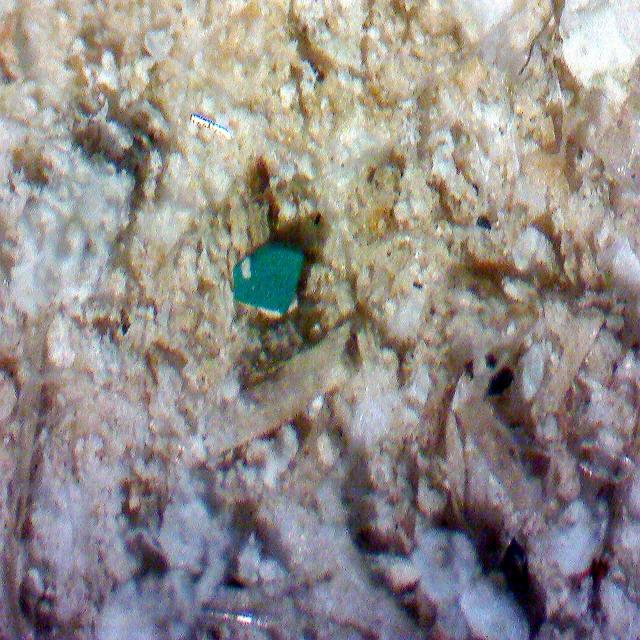microplastic: (232, 239, 305, 315)
